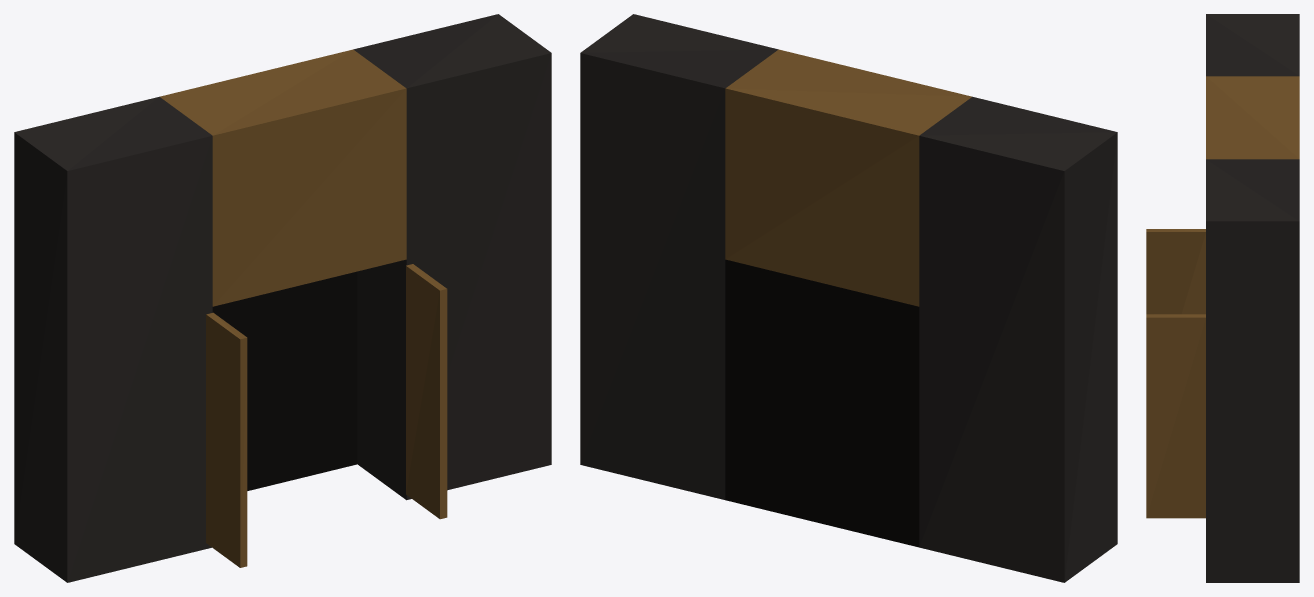
Rendered from cooling-hall-portal-a.glb.
3 renders of one model, left to right at view 1: azimuth 30°, elevation 25°; view 2: azimuth 150°, elevation 25°; view 3: azimuth 270°, elevation 25°, orthographic. The views are drawn at different scales.
Visible parts, largest first — view 1: cooling-hall-portal-a; view 2: cooling-hall-portal-a; view 3: cooling-hall-portal-a.
Part boxes in pixels (x1,y1,x2,y2): cooling-hall-portal-a: (14, 14, 551, 582); cooling-hall-portal-a: (580, 14, 1117, 582); cooling-hall-portal-a: (1146, 14, 1299, 582).
Bounding box in the file's own units: 8 × 6.5 × 2.5.
